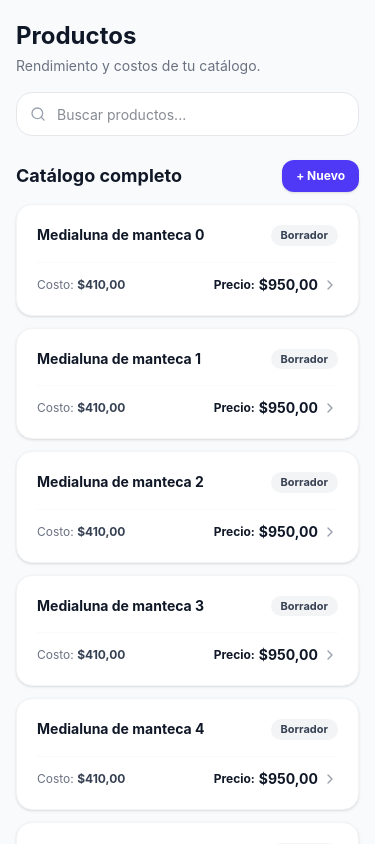
ProductsPage - paginación y búsqueda en la API (#350) › busca contra la API y encuentra un producto fuera de la primera página
In the field named "Buscar productos por nombre": (188, 114) [16, 92, 359, 136], type "sesamo"
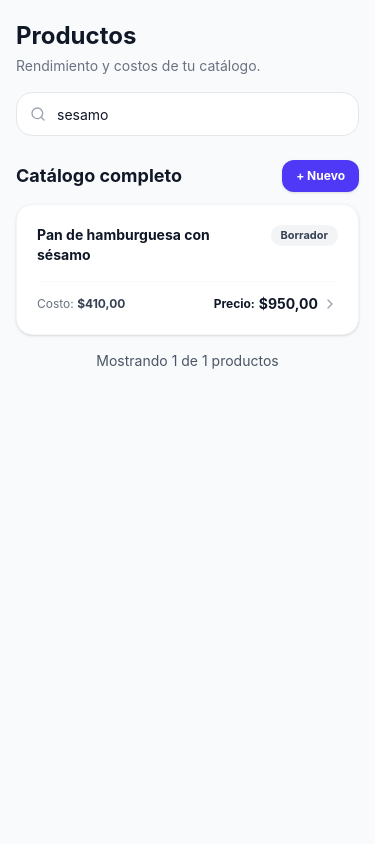
Result: the heading "Pan de hamburguesa con sésamo" is shown at [37, 226, 210, 263]
